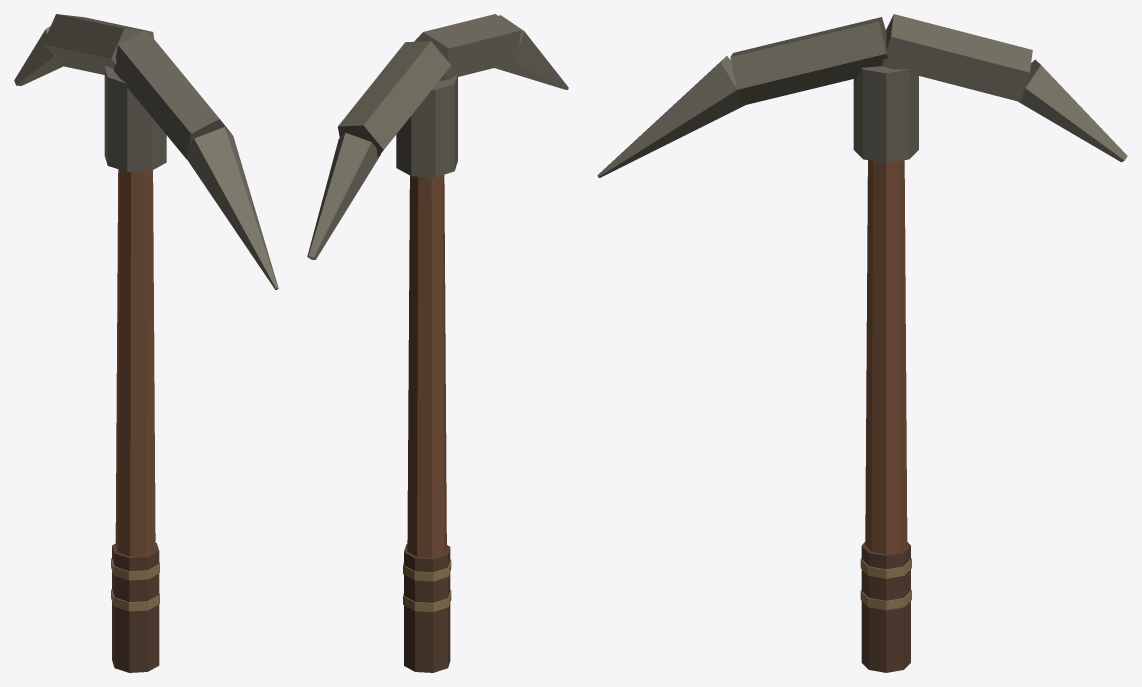
Rendered from tool_pick_base.glb.
The picture shows the model from 3 angles, left to right: view 1: azimuth 30°, elevation 25°; view 2: azimuth 150°, elevation 25°; view 3: azimuth 270°, elevation 25°; orthographic projection. The views are drawn at different scales.
Visible parts, largest first — view 1: tool_pick_base; view 2: tool_pick_base; view 3: tool_pick_base.
Part boxes in pixels (x1,y1,x2,y2): tool_pick_base: (14,14,278,672); tool_pick_base: (307,14,568,672); tool_pick_base: (597,14,1127,672).
Size of the model in its own units: 0.066 by 0.7166 by 0.5344.
